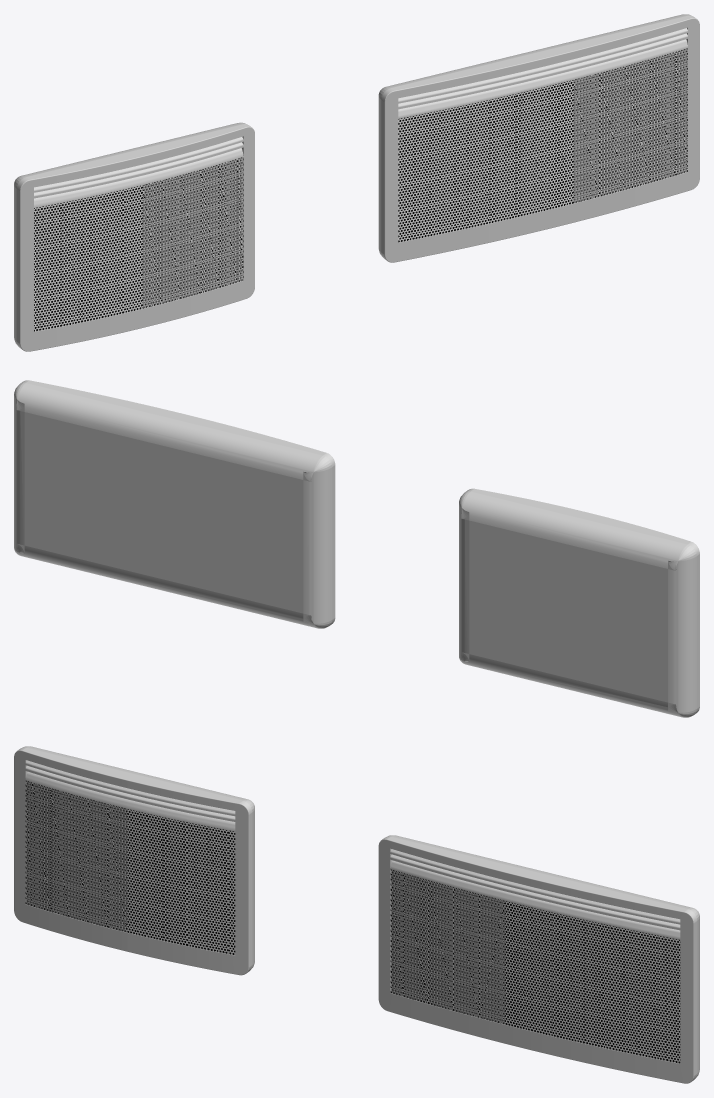
File: 2 sizes - electric heaters.glb
3 renders of one model, top to bottom at view 1: azimuth 30°, elevation 25°; view 2: azimuth 150°, elevation 25°; view 3: azimuth 330°, elevation 25°, orthographic.
Parts seen in each view (by area): view 1: Geom3D (×2), Geom3D_Composant#4, Geom3D_Composant#3, Geom3D_Composant#2, Geom3D_Composant#1; view 2: Geom3D_Composant#2, Geom3D_Composant#1, Geom3D_Composant#4, Geom3D_Composant#3; view 3: Geom3D (×2), Geom3D_Composant#4, Geom3D_Composant#3, Geom3D_Composant#2, Geom3D_Composant#1.
Part boxes in pixels (x1=…): Geom3D (×2): x1=34, y1=48, x2=687, y2=331; Geom3D_Composant#4: x1=383, y1=16, x2=699, y2=262; Geom3D_Composant#3: x1=18, y1=125, x2=254, y2=351; Geom3D_Composant#2: x1=378, y1=14, x2=694, y2=258; Geom3D_Composant#1: x1=14, y1=122, x2=249, y2=347; Geom3D_Composant#2: x1=14, y1=381, x2=333, y2=628; Geom3D_Composant#1: x1=459, y1=490, x2=698, y2=717; Geom3D_Composant#4: x1=23, y1=380, x2=335, y2=624; Geom3D_Composant#3: x1=467, y1=488, x2=699, y2=713; Geom3D (×2): x1=25, y1=780, x2=680, y2=1063; Geom3D_Composant#4: x1=378, y1=837, x2=695, y2=1083; Geom3D_Composant#3: x1=14, y1=748, x2=250, y2=975; Geom3D_Composant#2: x1=385, y1=835, x2=699, y2=1080; Geom3D_Composant#1: x1=19, y1=746, x2=254, y2=971.
Size of the model in its own units: 1.87 by 0.45 by 0.088.
Materials: 1 (1 with a texture image).
